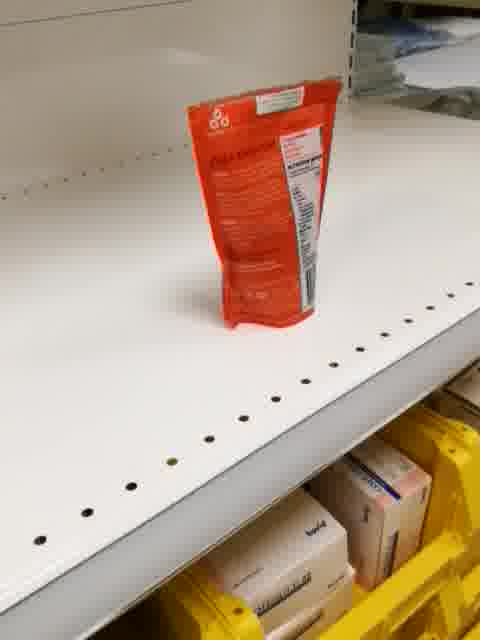whitechia: (185, 73, 346, 331)
